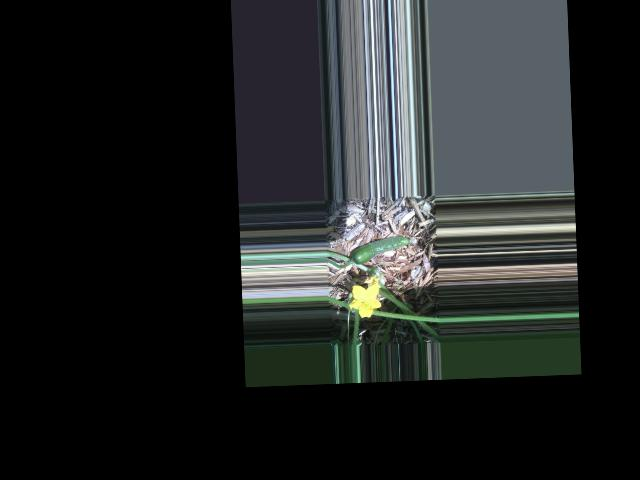cucumber: (350, 235, 415, 265)
